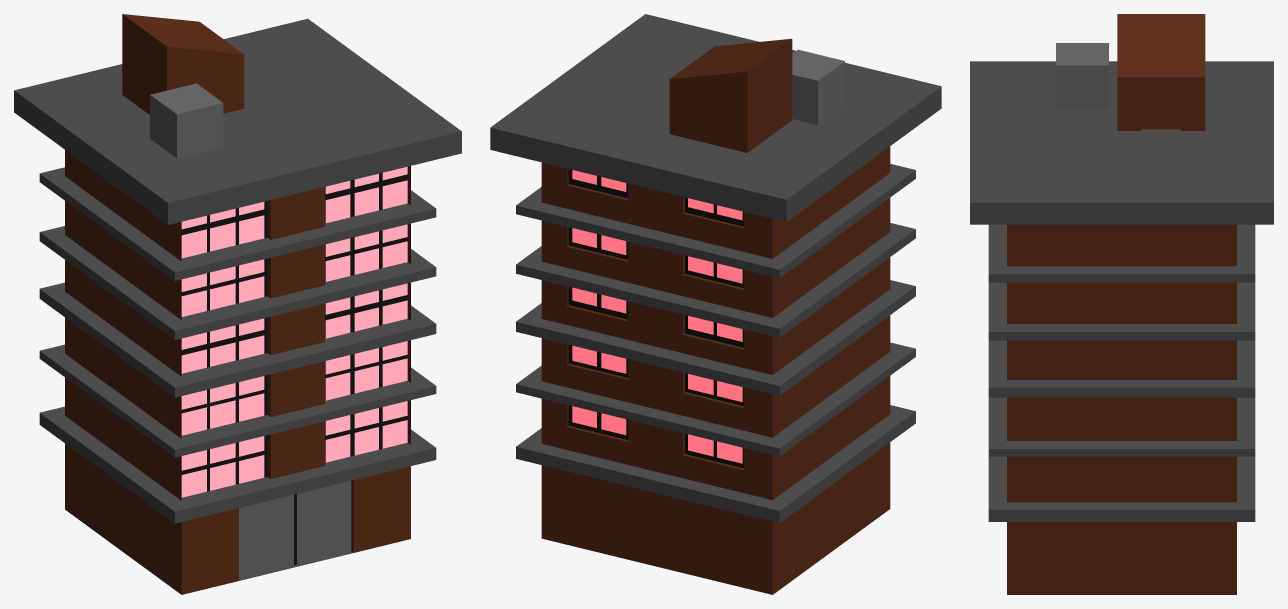
File: Casa2 (1).fbx
3 renders of one model, left to right at view 1: azimuth 30°, elevation 25°; view 2: azimuth 150°, elevation 25°; view 3: azimuth 270°, elevation 25°, orthographic. The views are drawn at different scales.
Parts seen in each view (by area): view 1: Apartamento.003, Cube.003, Cube.004; view 2: Apartamento.003, Cube.003, Cube.004; view 3: Apartamento.003, Cube.003, Cube.004.
Boxes of the visible parts, x1=… form: Apartamento.003: x1=14, y1=18, x2=461, y2=594; Cube.003: x1=122, y1=14, x2=244, y2=114; Cube.004: x1=150, y1=83, x2=223, y2=158; Apartamento.003: x1=490, y1=14, x2=941, y2=594; Cube.003: x1=669, y1=38, x2=792, y2=152; Cube.004: x1=792, y1=49, x2=844, y2=125; Apartamento.003: x1=970, y1=61, x2=1273, y2=594; Cube.003: x1=1117, y1=14, x2=1205, y2=130; Cube.004: x1=1056, y1=43, x2=1108, y2=108.
Bounding box in the file's own units: 909 × 1470 × 825.
